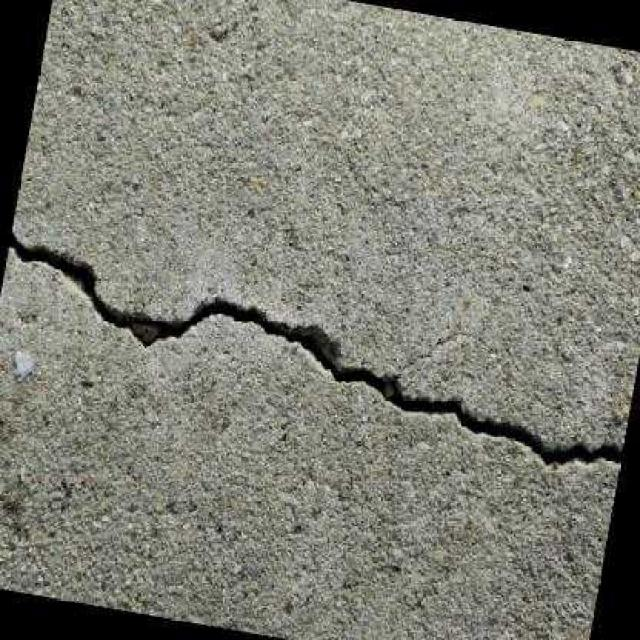D00: (6, 225, 624, 473)
